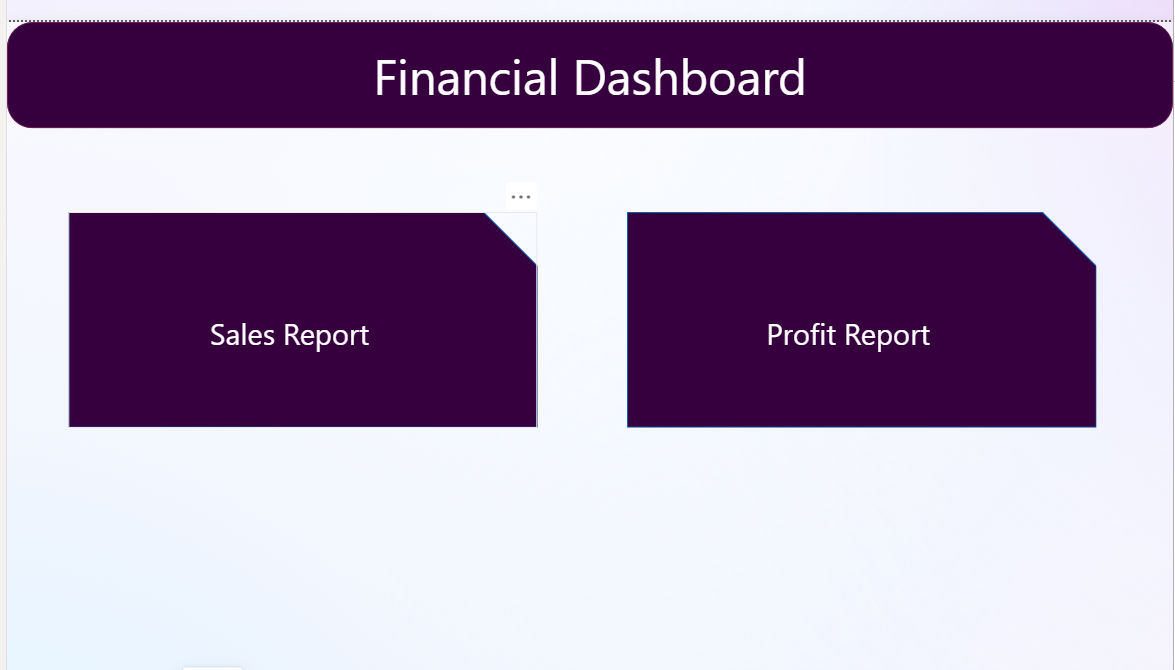

This screenshot's page, from the dashboard's own definition file:
{"tool":"powerbi","page":{"name":"Home","canvas":[1280,720],"ordinal":0},"visuals":[{"type":"shape","box":[0,0,1280,116.7],"z":0},{"type":"shape","box":[66.7,208.9,515.6,236.7],"z":1000},{"type":"shape","box":[681.1,208.9,515.6,236.7],"z":2000}]}

Visuals, with their boxes in screenshot pixels (x1, y1, x2, y2), scaled from the page's 1280x720 canvas onto the 1175x670 screenshot:
shape: {"left": 0, "top": 0, "right": 1174, "bottom": 109}
shape: {"left": 61, "top": 194, "right": 535, "bottom": 415}
shape: {"left": 625, "top": 194, "right": 1099, "bottom": 415}
